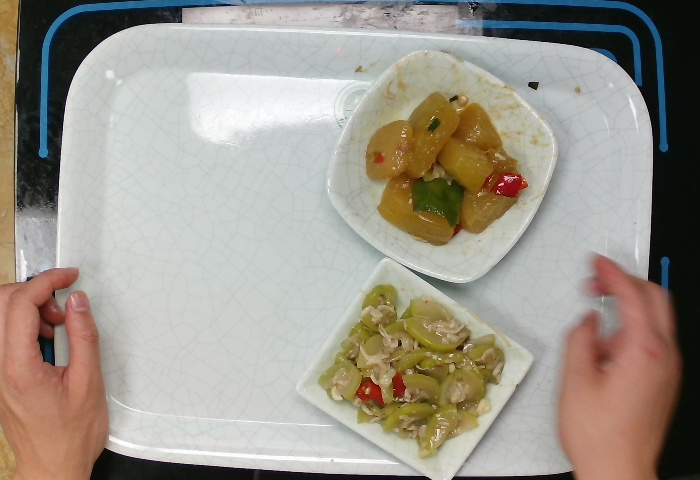WCQzf-Da_Si_Fang_Die: (321, 46, 563, 286)
WCQzf-Ru_Ci_Si_Fang_Die: (293, 255, 536, 480)
